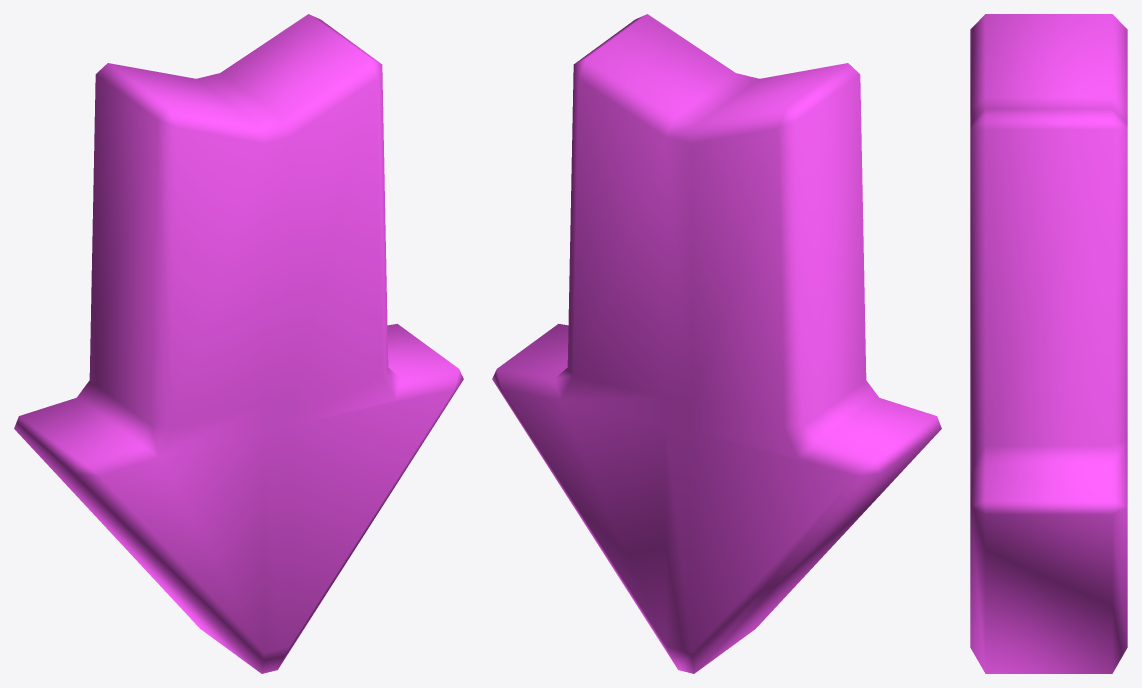
File: 7_TutorialArrow.fbx
3 renders of one model, left to right at view 1: azimuth 30°, elevation 25°; view 2: azimuth 150°, elevation 25°; view 3: azimuth 270°, elevation 25°, orthographic. The views are drawn at different scales.
Parts seen in each view (by area): view 1: Cube.110; view 2: Cube.110; view 3: Cube.110.
Part boxes in pixels (x1,y1,x2,y2): Cube.110: [14, 14, 463, 673]; Cube.110: [492, 14, 941, 673]; Cube.110: [970, 14, 1127, 673].
Bounding box in the file's own units: 71.35 × 209 × 303.
